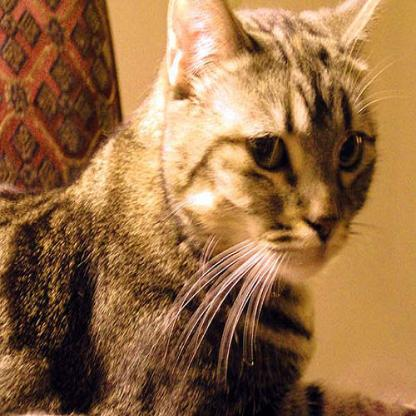cat: (0, 0, 394, 415)
